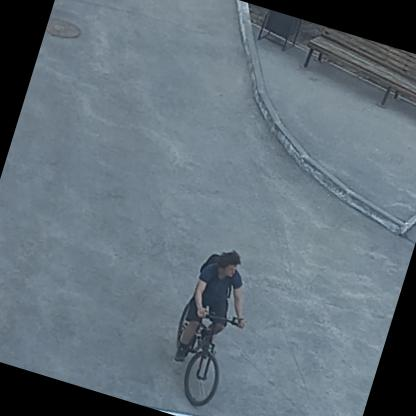Human Body: (170, 242, 262, 370)
